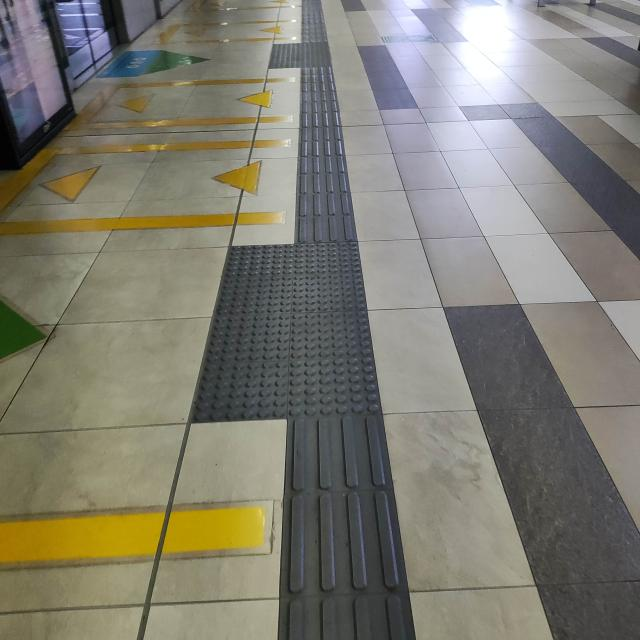lurus: (291, 413, 412, 640), (275, 11, 363, 244)
